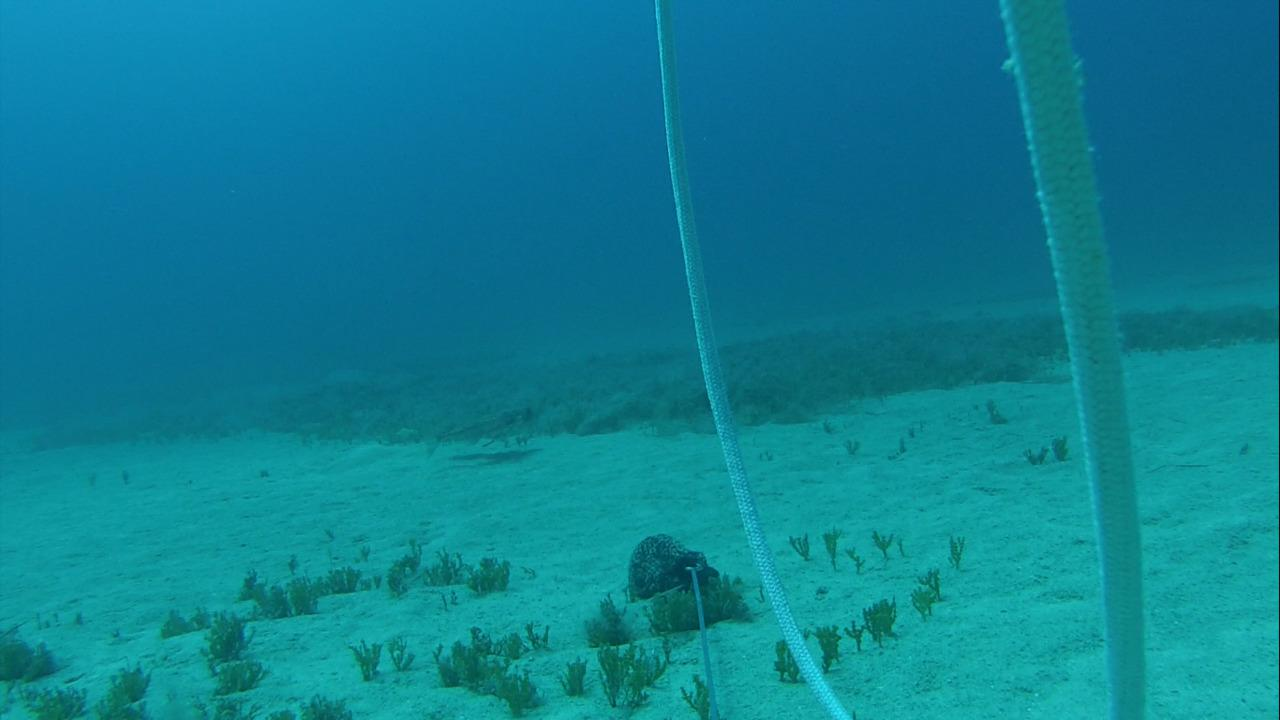dactylopterus: (418, 409, 548, 453)
